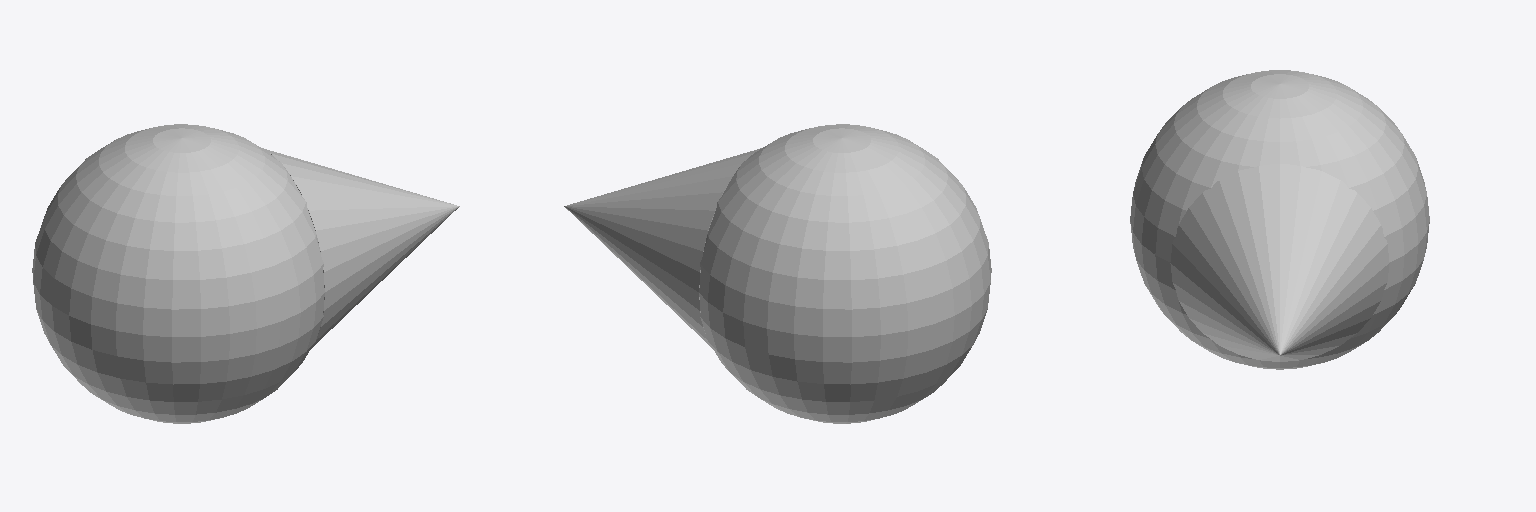
File: pico.obj
The picture shows the model from 3 angles: view 1: azimuth 30°, elevation 25°; view 2: azimuth 150°, elevation 25°; view 3: azimuth 270°, elevation 25°; orthographic projection.
Parts seen in each view (by area): view 1: Sphere; view 2: Sphere; view 3: Sphere.
Part boxes in pixels (bbox=[...]): Sphere: bbox=[32, 124, 459, 423]; Sphere: bbox=[564, 124, 991, 423]; Sphere: bbox=[1130, 70, 1429, 369].
Size of the model in its own units: 4.3 by 2.74 by 2.74.